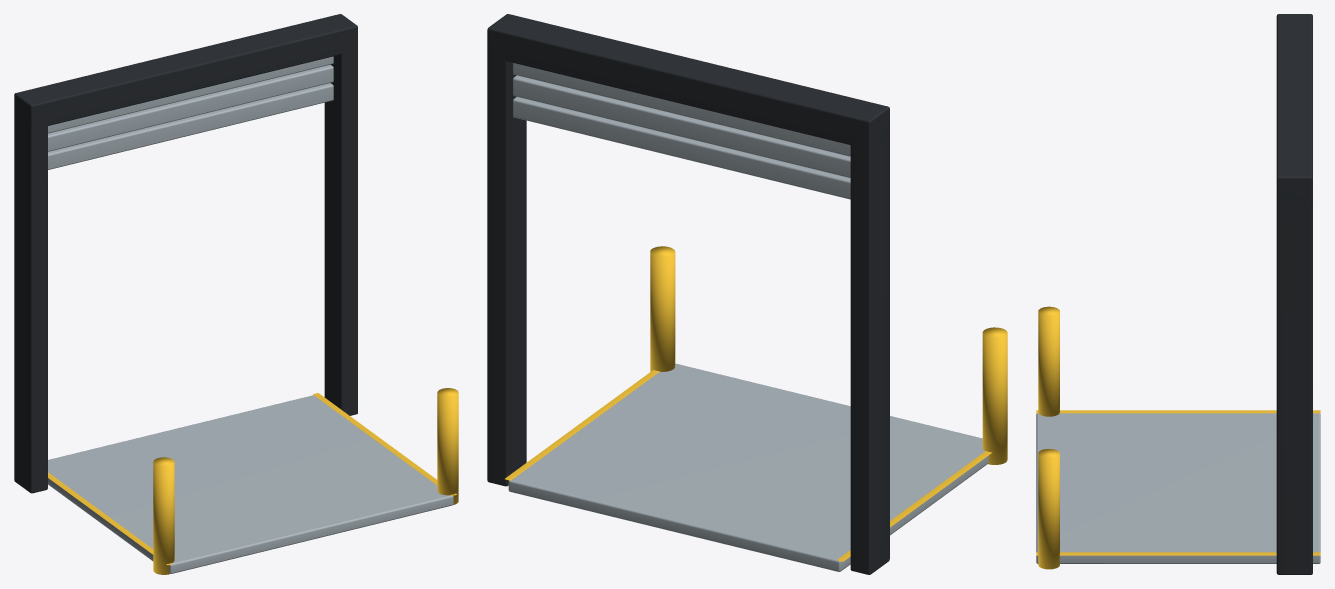
Rendered from dock.glb.
3 views of the same model, side by side, from view 1: azimuth 30°, elevation 25°; view 2: azimuth 150°, elevation 25°; view 3: azimuth 270°, elevation 25° (orthographic). The views are drawn at different scales.
Parts seen in each view (by area): view 1: Dock_leveller, Dock_seal, Header, Dock_seal.001, Raised_door_section, Raised_door_section.001, Bollard, Bollard.001, Raised_door_section.002, Safety_edge.001, Safety_edge; view 2: Dock_leveller, Dock_seal, Header, Dock_seal.001, Raised_door_section, Raised_door_section.001, Raised_door_section.002, Bollard, Bollard.001, Safety_edge.001, Safety_edge; view 3: Dock_leveller, Dock_seal.001, Header, Bollard.001, Bollard, Safety_edge.001, Safety_edge.
Part boxes in pixels (<box>): Dock_leveller: <box>48,395,453,573</box>; Dock_seal: <box>14,89,47,493</box>; Header: <box>14,17,357,128</box>; Dock_seal.001: <box>324,14,357,415</box>; Raised_door_section: <box>48,83,333,169</box>; Raised_door_section.001: <box>48,64,333,151</box>; Bollard: <box>153,457,174,574</box>; Bollard.001: <box>437,388,458,504</box>; Raised_door_section.002: <box>48,56,333,133</box>; Safety_edge.001: <box>313,393,456,495</box>; Safety_edge: <box>48,472,172,565</box>; Dock_leveller: <box>508,363,988,571</box>; Dock_seal: <box>850,102,889,574</box>; Header: <box>487,18,889,147</box>; Dock_seal.001: <box>487,14,526,486</box>; Raised_door_section: <box>513,97,850,199</box>; Raised_door_section.001: <box>513,75,850,177</box>; Raised_door_section.002: <box>513,63,850,156</box>; Bollard: <box>982,327,1007,464</box>; Bollard.001: <box>650,246,675,371</box>; Safety_edge.001: <box>505,370,659,480</box>; Safety_edge: <box>837,451,992,561</box>; Dock_leveller: <box>1036,413,1320,563</box>; Dock_seal.001: <box>1276,169,1312,574</box>; Header: <box>1276,21,1312,201</box>; Bollard.001: <box>1038,449,1059,569</box>; Bollard: <box>1038,306,1059,416</box>; Safety_edge.001: <box>1036,552,1320,555</box>; Safety_edge: <box>1036,410,1320,413</box>.
Bounding box in the file's own units: 3 × 3.4 × 2.2.
